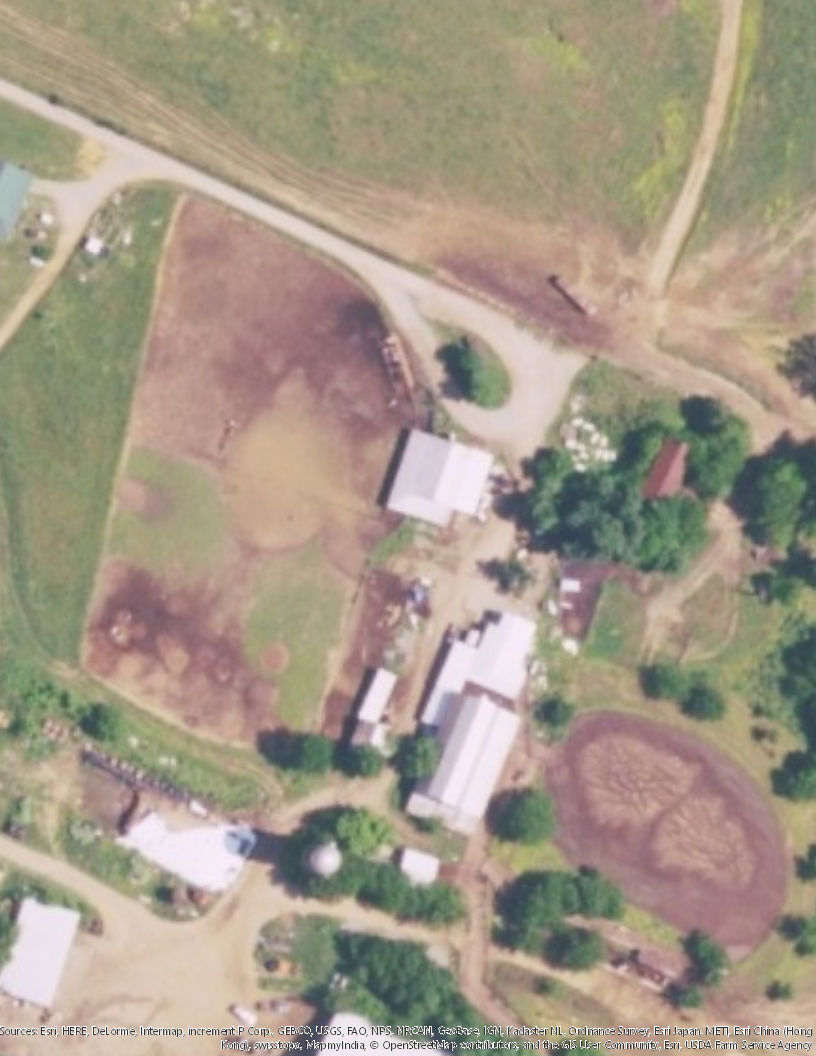cafo: (401, 601, 546, 828), (379, 424, 502, 538)
